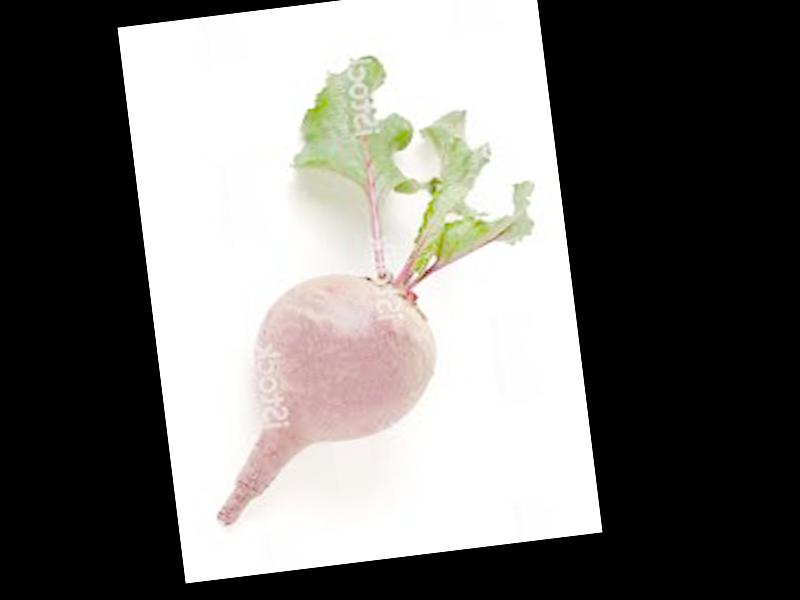Beet: (165, 35, 570, 525)
